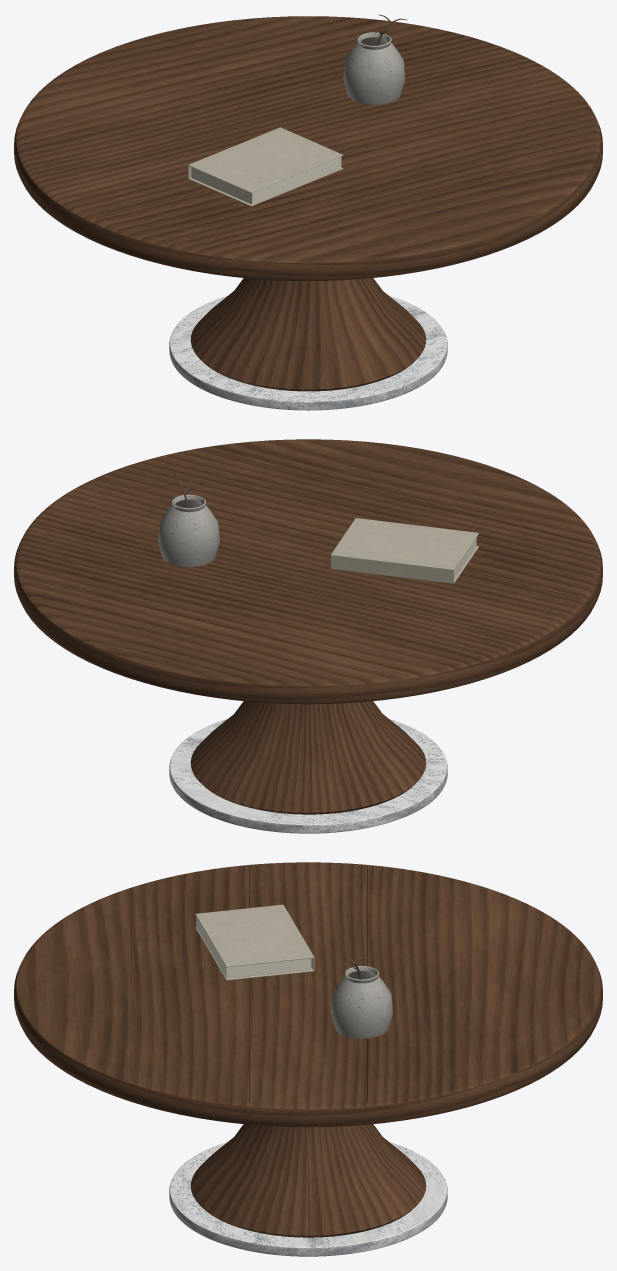
File: coffee-table.glb
The picture shows the model from 3 angles, top to bottom: view 1: azimuth 30°, elevation 25°; view 2: azimuth 150°, elevation 25°; view 3: azimuth 270°, elevation 25°; orthographic projection.
Visible parts, largest first — view 1: Top, Pedestal, Base, Book, Vase; view 2: Top, Pedestal, Base, Book, Vase; view 3: Top, Pedestal, Base, Book, Vase.
Boxes of the visible parts, x1=… form: Top: x1=14, y1=16, x2=602, y2=280; Pedestal: x1=190, y1=278, x2=426, y2=391; Base: x1=169, y1=296, x2=447, y2=410; Book: x1=188, y1=127, x2=343, y2=206; Vase: x1=343, y1=32, x2=405, y2=104; Top: x1=14, y1=439, x2=602, y2=704; Pedestal: x1=190, y1=701, x2=426, y2=814; Base: x1=169, y1=719, x2=447, y2=833; Book: x1=330, y1=518, x2=478, y2=583; Vase: x1=158, y1=494, x2=219, y2=567; Top: x1=14, y1=862, x2=602, y2=1127; Pedestal: x1=190, y1=1124, x2=426, y2=1237; Base: x1=169, y1=1142, x2=447, y2=1256; Book: x1=195, y1=904, x2=314, y2=980; Vase: x1=331, y1=966, x2=392, y2=1038.
Bounding box in the file's own units: 1.1 × 0.6 × 1.1.
7 materials, 7 textured.
